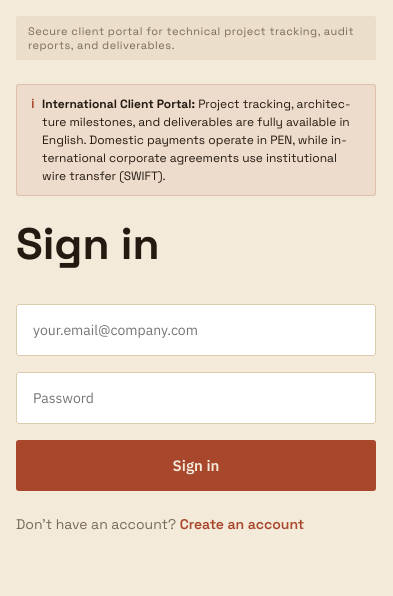
Test: Login Component › displays localized error message on invalid credentials in English
Step 1. Type "test@company.com" into the field with placeholder "your.email@company.com" → {"x": 196, "y": 330}, box [16,304,376,356]
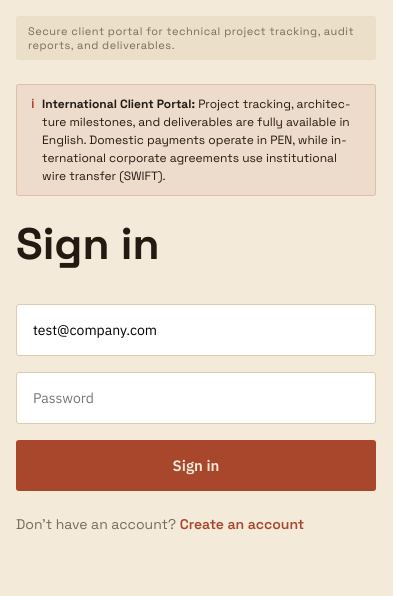
Step 2. Type "wrongpassword" into the password field with placeholder "Password" → {"x": 196, "y": 398}, box [16,372,376,424]
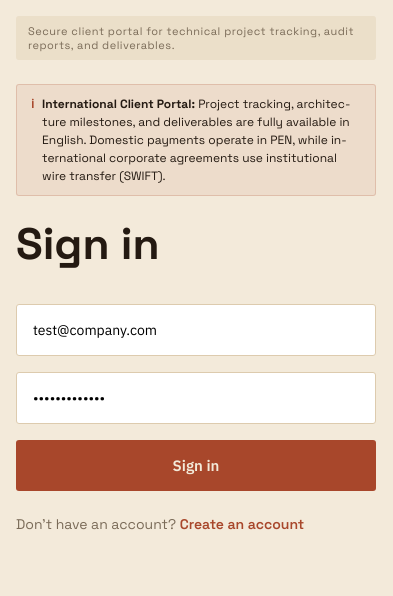
Step 3. Click the button "Sign in" → {"x": 196, "y": 466}, box [16,440,376,491]
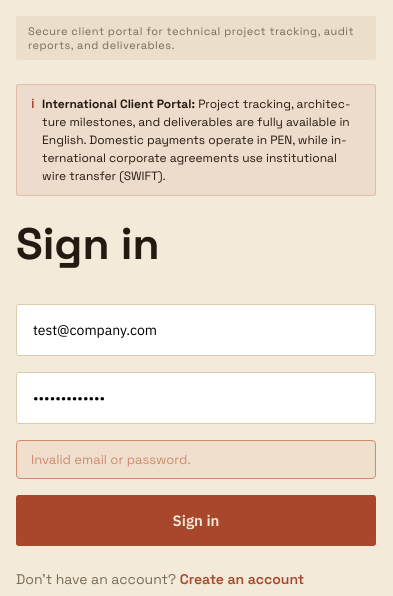
Result: the text "Invalid email or password." is shown at [16,440,376,479]
